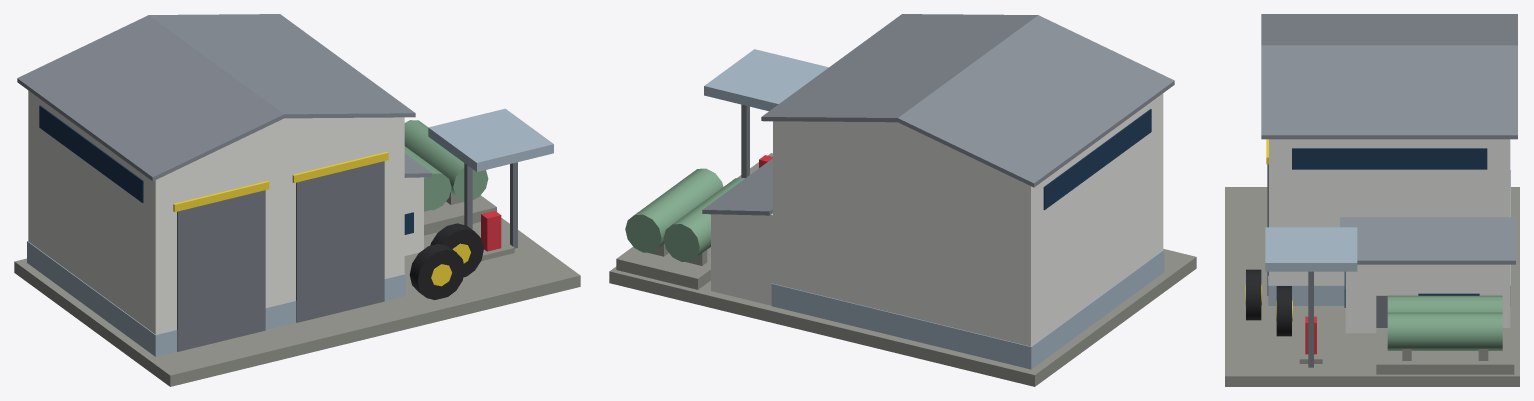
File: mashup-workshop-mid-prebuilt.fbx
The picture shows the model from 3 angles, left to right: view 1: azimuth 30°, elevation 25°; view 2: azimuth 150°, elevation 25°; view 3: azimuth 270°, elevation 25°; orthographic projection. The views are drawn at different scales.
Parts seen in each view (by area): view 1: a1022.Workshop; view 2: a1022.Workshop; view 3: a1022.Workshop.
Part boxes in pixels (x1=…): a1022.Workshop: x1=14, y1=14, x2=580, y2=386; a1022.Workshop: x1=609, y1=14, x2=1196, y2=386; a1022.Workshop: x1=1225, y1=14, x2=1519, y2=386.
Size of the model in its own units: 23.4 by 12.32 by 15.4.
